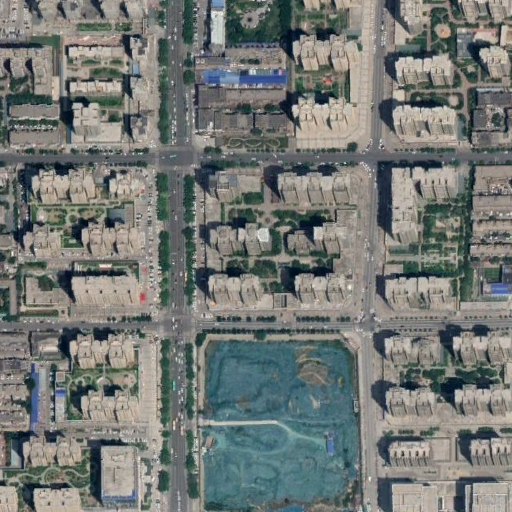cw: (206, 341, 357, 512)
